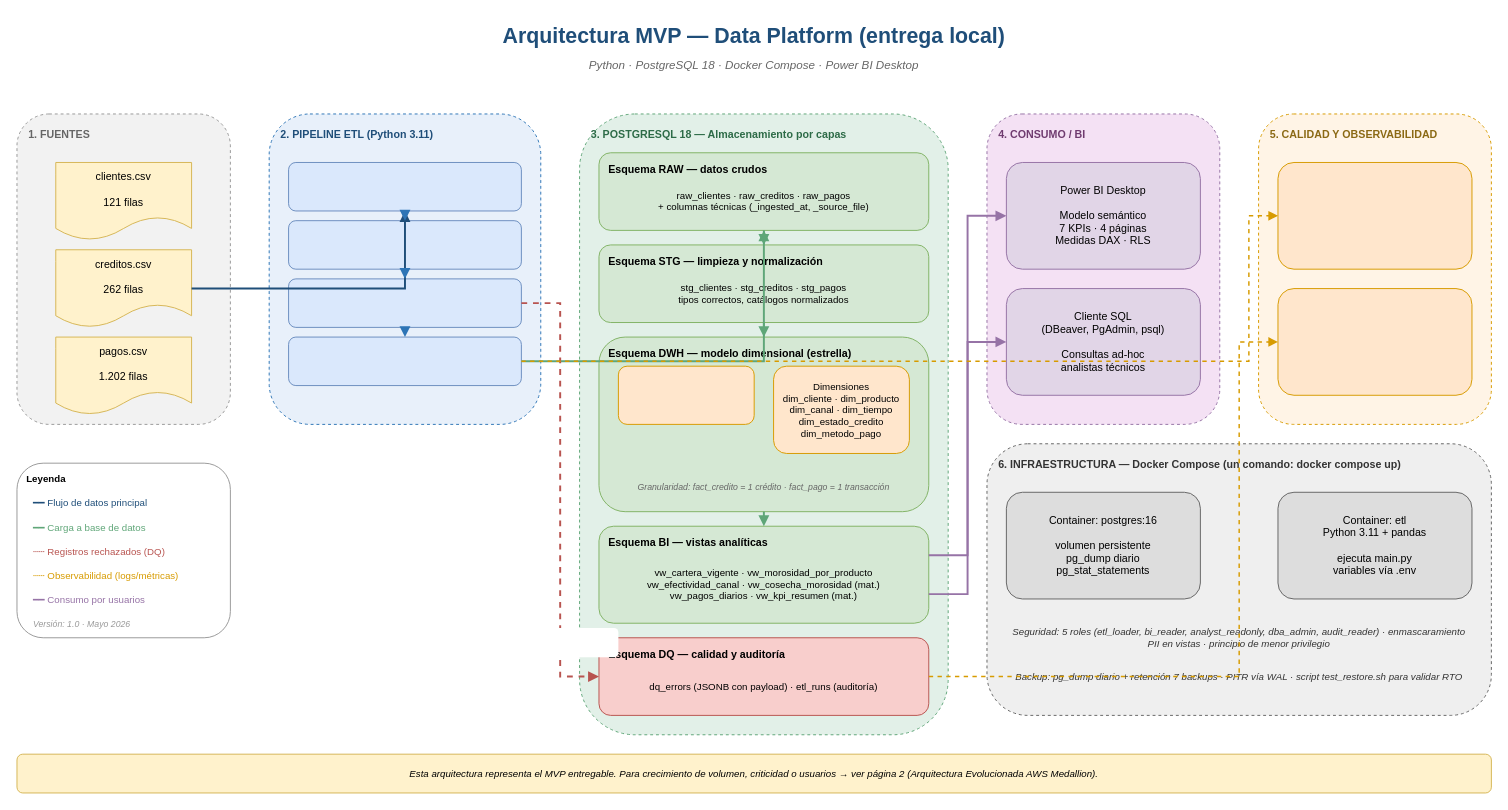
Image size: 1508x810. Some labels were removed from this diagram. Each missing label, with the centre of its shape:
"extract.py Lectura CSV → DataFrame" goes at (x=404, y=186).
"Hechos fact_credito fact_pago" goes at (x=685, y=394).
"load.py Carga a esquemas raw → stg → dwh" goes at (x=404, y=361).
"Logging estructurado JSON con run_id trazabilidad por etapa timestamps" goes at (x=1374, y=215).
"Métricas de calidad tasa de calidad % errores por regla tiempo por etapa" goes at (x=1374, y=341).
"registros rechazados" goes at (x=584, y=642).
"transform.py Tipos · catálogos · derivaciones" goes at (x=404, y=244).
"validate.py 7 reglas de calidad" goes at (x=404, y=302).
